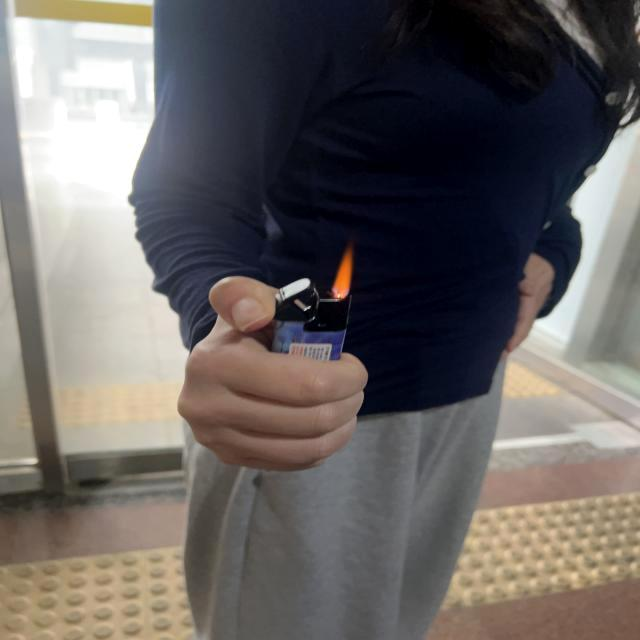fire: (325, 248, 355, 298)
